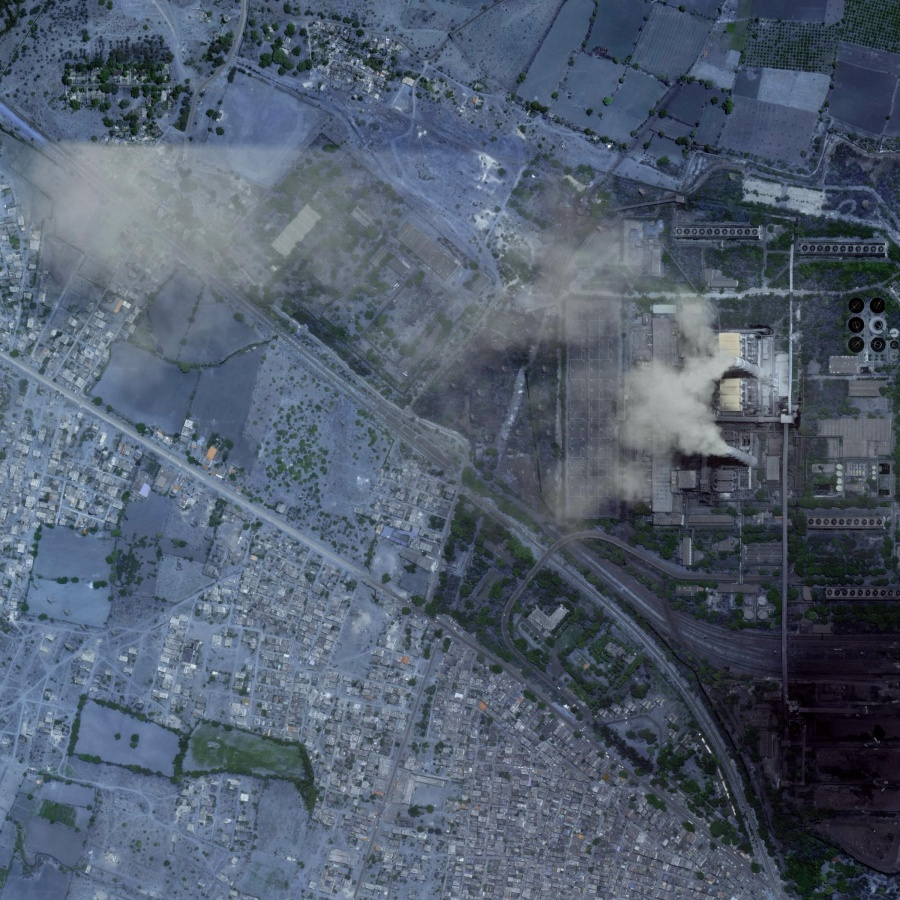PowerPlant: (568, 217, 840, 537)
